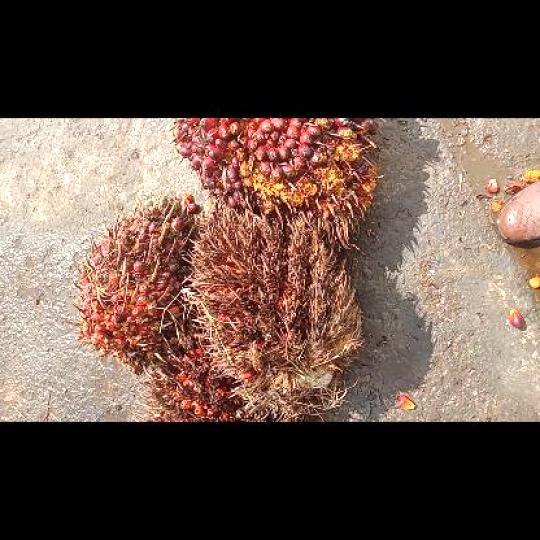masak: (167, 118, 383, 248), (69, 193, 204, 373)
terlalu masak: (180, 194, 365, 420), (135, 330, 252, 420)
